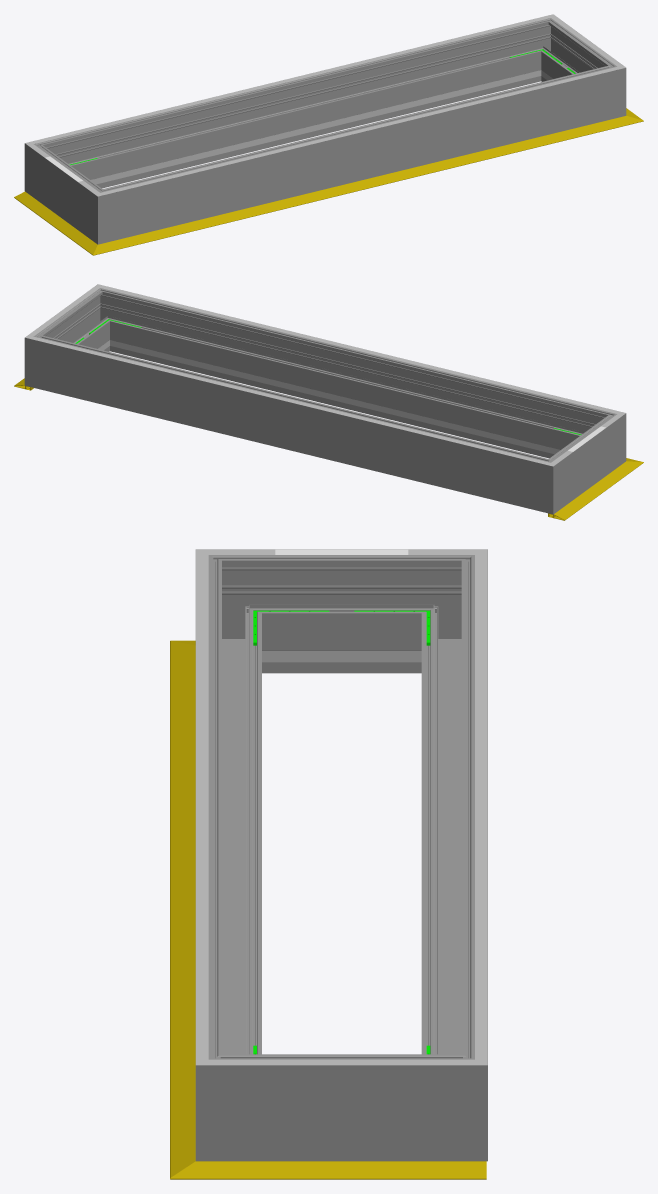
3 views of the same model, one above another, from view 1: azimuth 30°, elevation 25°; view 2: azimuth 150°, elevation 25°; view 3: azimuth 270°, elevation 25° (orthographic). The views are drawn at different scales.
Parts seen in each view (by area): view 1: 3DGeom-276, 3DGeom-298, 3DGeom-28, 3DGeom-270, 3DGeom-244, 3DGeom-290, 3DGeom-268, 3DGeom-304, 3DGeom-316, 3DGeom-284, 3DGeom-297, 3DGeom-278 (+3 smaller); view 2: 3DGeom-298, 3DGeom-276, 3DGeom-278, 3DGeom-239, 3DGeom-284, 3DGeom-268, 3DGeom-316, 3DGeom-304, 3DGeom-290, 3DGeom-297, 3DGeom-270, 3DGeom-38; view 3: 3DGeom-276, 3DGeom-298, 3DGeom-268, 3DGeom-297, 3DGeom-28, 3DGeom-290, 3DGeom-284, 3DGeom-304, 3DGeom-316, 3DGeom-270, 3DGeom-278, 3DGeom-30 (+6 smaller).
Boxes of the visible parts, <box> form: 3DGeom-276: <box>62,25,535,188</box>; 3DGeom-298: <box>126,71,591,236</box>; 3DGeom-28: <box>121,121,609,247</box>; 3DGeom-270: <box>78,179,132,244</box>; 3DGeom-244: <box>103,78,507,182</box>; 3DGeom-290: <box>585,54,626,123</box>; 3DGeom-268: <box>44,155,88,229</box>; 3DGeom-304: <box>59,22,521,136</box>; 3DGeom-316: <box>129,74,591,187</box>; 3DGeom-284: <box>522,18,571,82</box>; 3DGeom-297: <box>544,30,600,80</box>; 3DGeom-278: <box>24,137,75,205</box>; 3DGeom-298: <box>115,295,588,458</box>; 3DGeom-276: <box>59,341,525,505</box>; 3DGeom-278: <box>519,449,573,514</box>; 3DGeom-239: <box>143,348,547,452</box>; 3DGeom-284: <box>24,324,65,393</box>; 3DGeom-268: <box>562,425,606,499</box>; 3DGeom-316: <box>129,292,591,406</box>; 3DGeom-304: <box>60,343,521,457</box>; 3DGeom-290: <box>83,284,128,352</box>; 3DGeom-297: <box>46,300,106,350</box>; 3DGeom-270: <box>575,407,626,475</box>; 3DGeom-38: <box>548,471,623,520</box>; 3DGeom-276: <box>421,583,487,1054</box>; 3DGeom-298: <box>195,583,261,1054</box>; 3DGeom-268: <box>275,549,408,673</box>; 3DGeom-297: <box>275,1054,408,1161</box>; 3DGeom-28: <box>170,668,195,1144</box>; 3DGeom-290: <box>195,1031,275,1161</box>; 3DGeom-284: <box>408,1031,487,1161</box>; 3DGeom-304: <box>475,583,487,1031</box>; 3DGeom-316: <box>196,583,208,1031</box>; 3DGeom-270: <box>195,549,275,673</box>; 3DGeom-278: <box>408,549,487,673</box>; 3DGeom-30: <box>249,1161,486,1179</box>.
Bounding box in the file's own units: 2.44 × 0.2195 × 0.6096.
